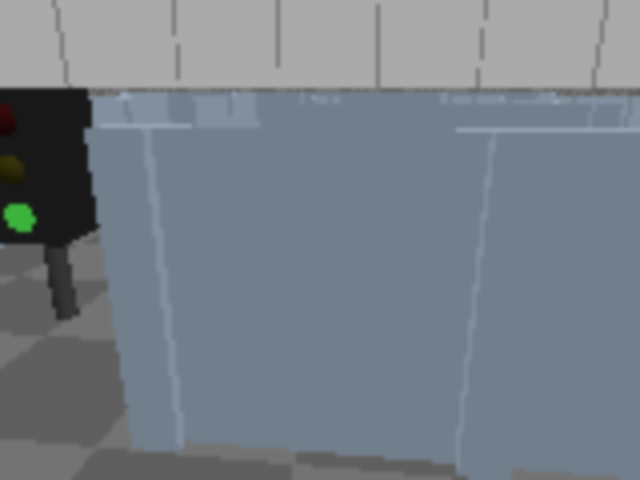traffic_light: (0, 73, 119, 335)
